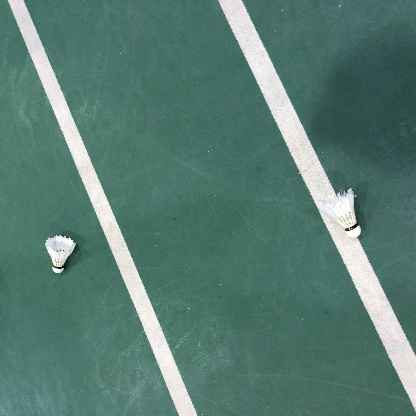ball_single: (319, 188, 361, 238), (45, 235, 76, 273)
